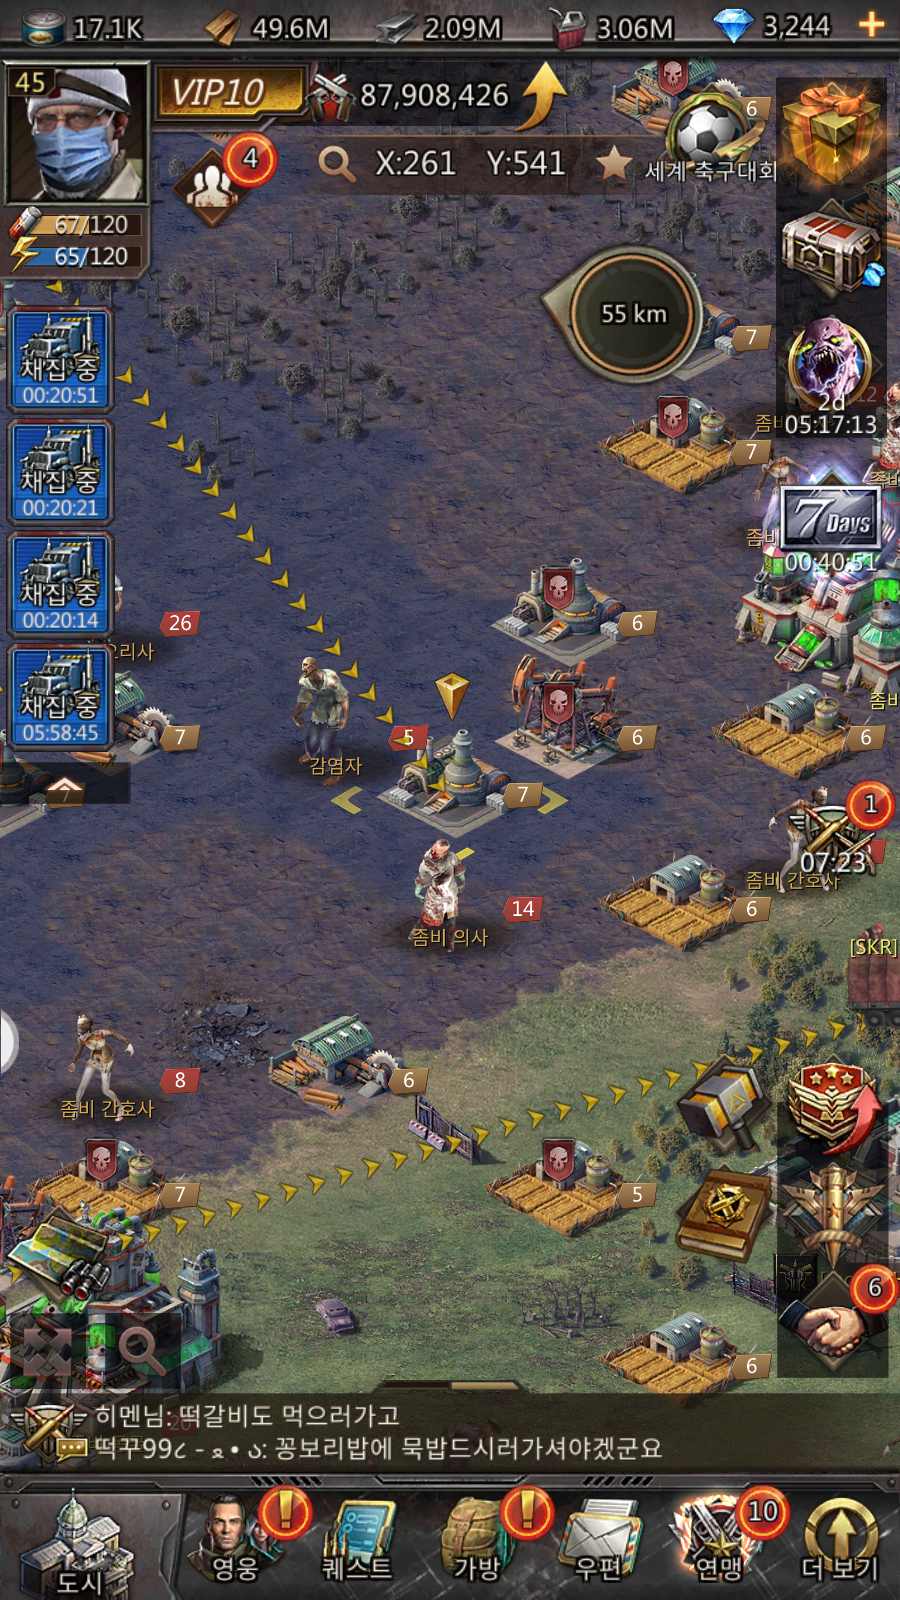city: (2, 1480, 173, 1600)
occupied_steel: (324, 649, 595, 895)
open_panel: (93, 1296, 209, 1409)
troops_cnt_4: (162, 116, 296, 258)
